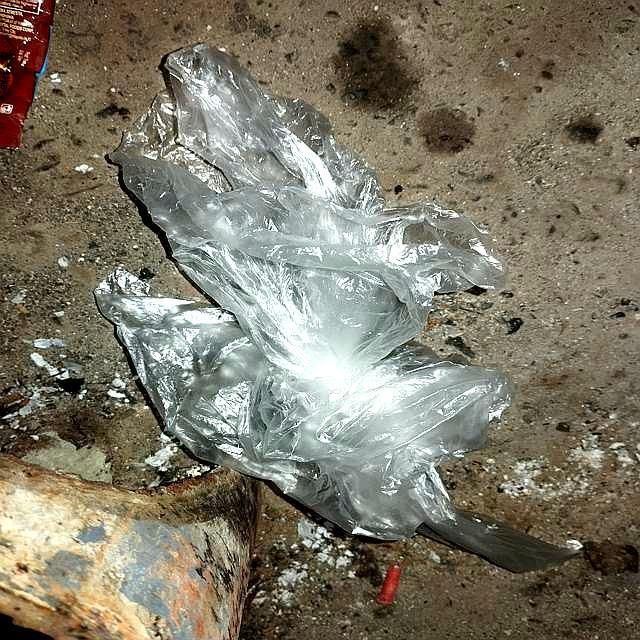Non-biodegradable: (103, 43, 517, 541)
